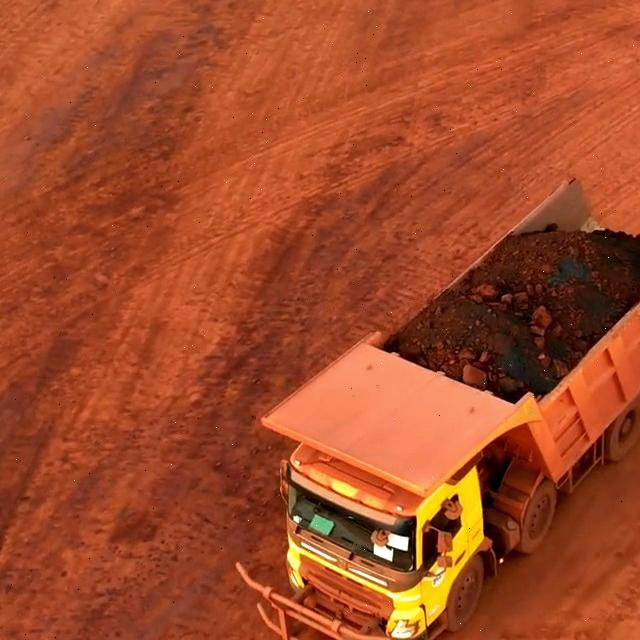Dumper truck: (287, 368, 536, 609)
